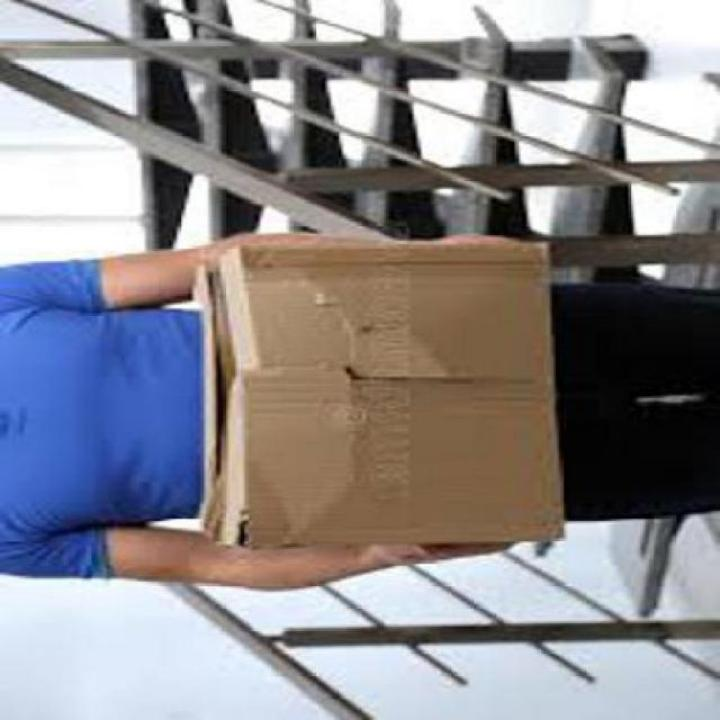box: (180, 230, 578, 561)
